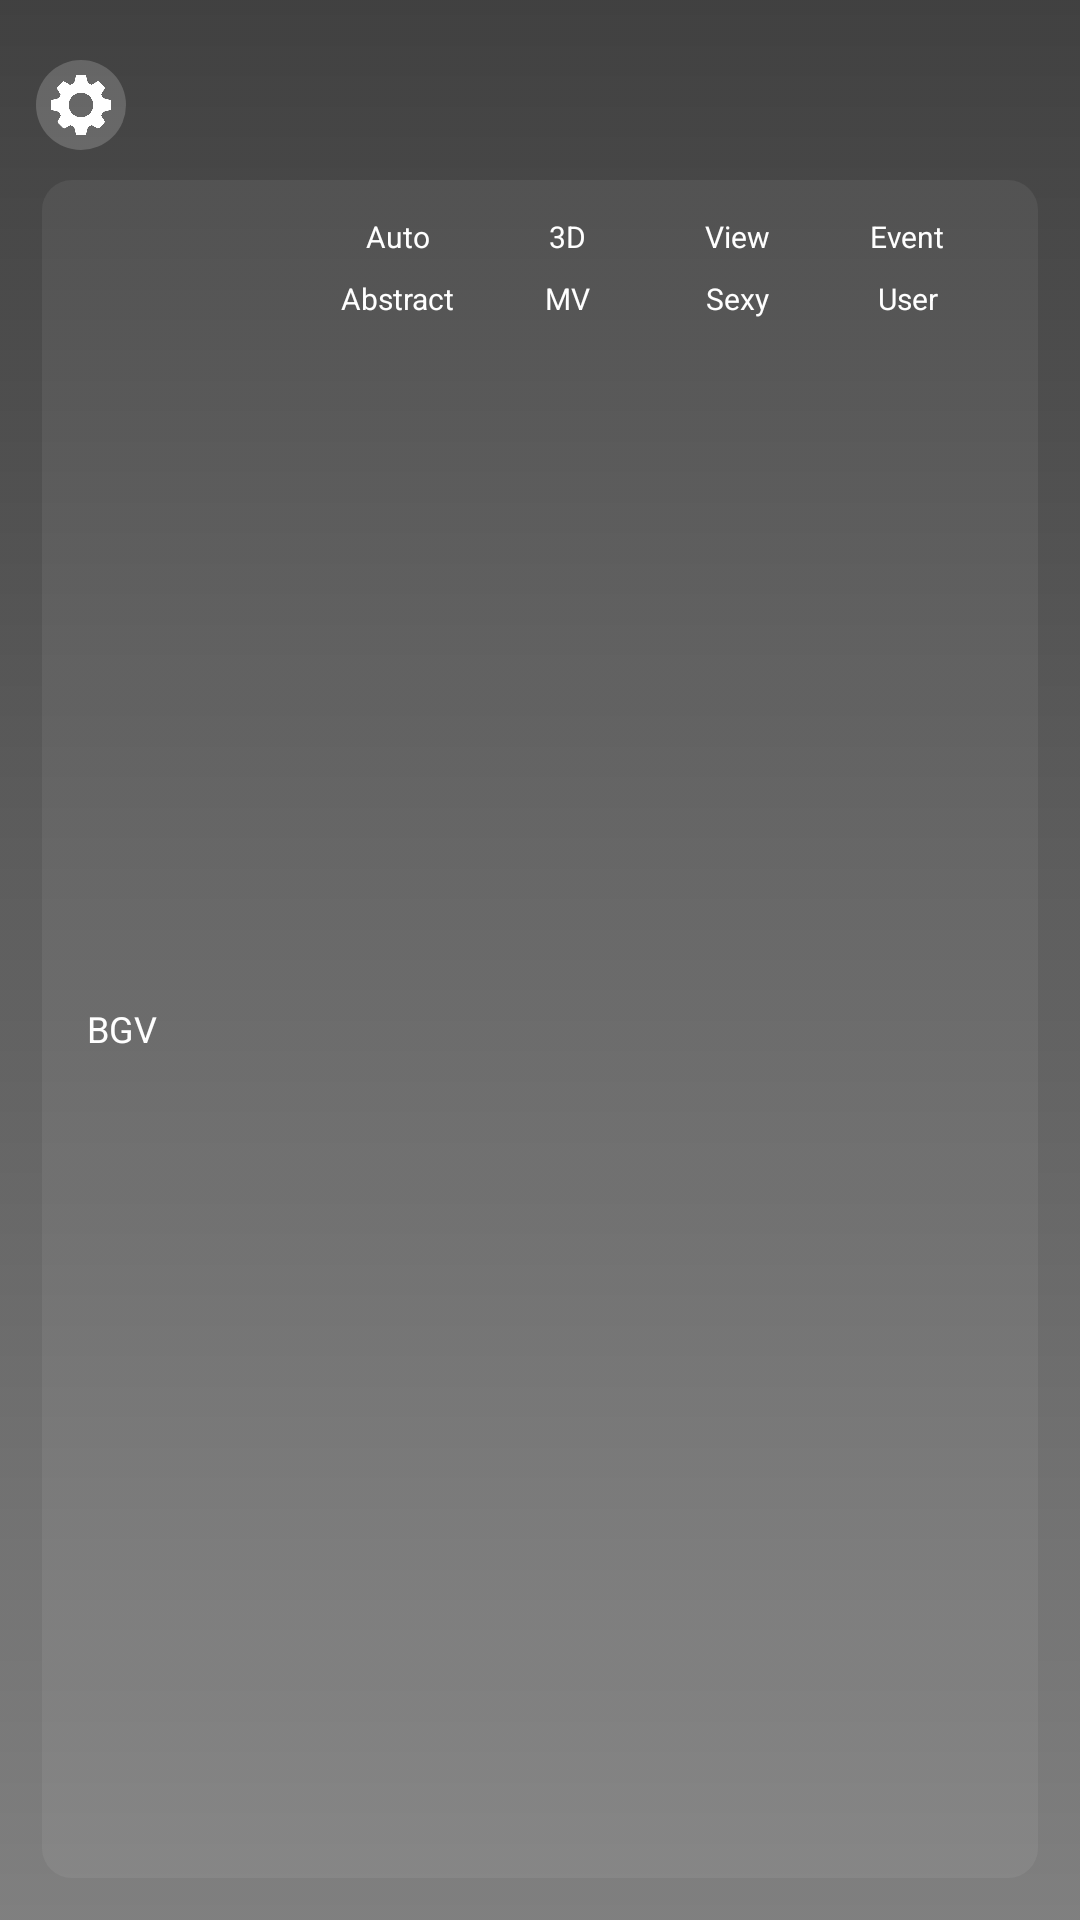

Point at icon controls on the screen. Image size 1080w x 1920h, points as (x,y).
Settings Icon: (81,105)
